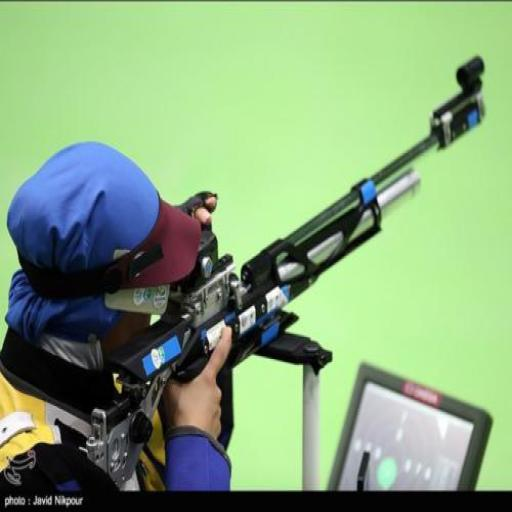shooting: (0, 138, 238, 506)
